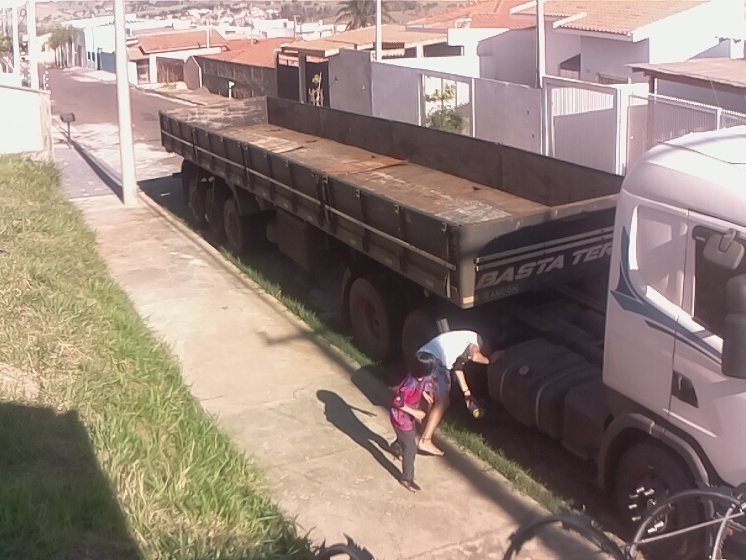person: (415, 328, 500, 460), (385, 350, 441, 501)
